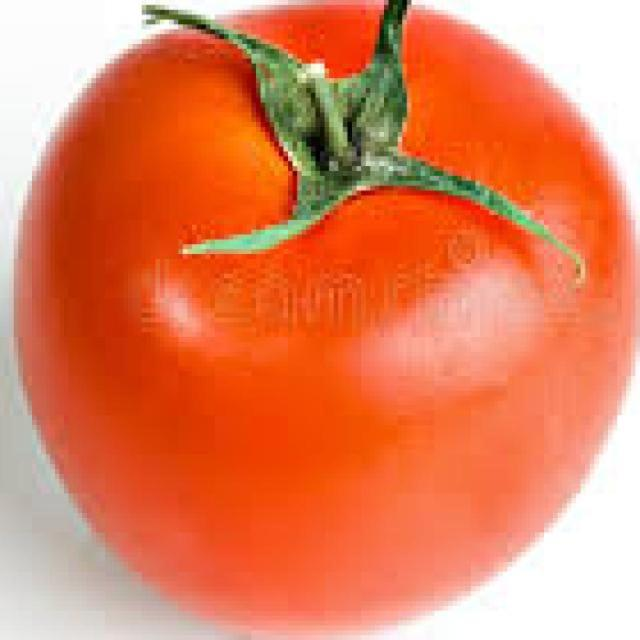Healthy Fruit: (12, 0, 427, 419)
